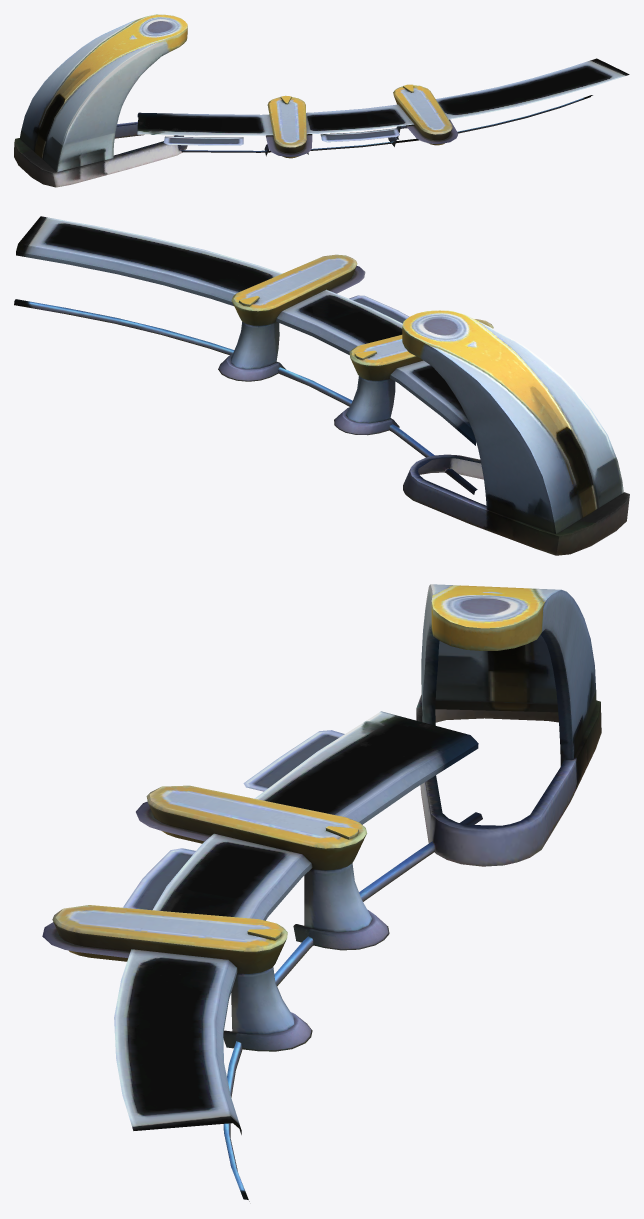
The model's file is pref_sm_4v4beachtech_bk_topblock_R01b_lv1.fbx.
3 views of the same model, one above another, from view 1: azimuth 30°, elevation 25°; view 2: azimuth 150°, elevation 25°; view 3: azimuth 270°, elevation 25° (orthographic). The views are drawn at different scales.
Parts seen in each view (by area): view 1: sm_4v4beachtech_bk_topblock_R01b_lv1; view 2: sm_4v4beachtech_bk_topblock_R01b_lv1; view 3: sm_4v4beachtech_bk_topblock_R01b_lv1.
Part boxes in pixels (left/top/right/bottom): sm_4v4beachtech_bk_topblock_R01b_lv1: left=14, top=14, right=629, bottom=187; sm_4v4beachtech_bk_topblock_R01b_lv1: left=14, top=216, right=629, bottom=555; sm_4v4beachtech_bk_topblock_R01b_lv1: left=42, top=584, right=601, bottom=1201.
Size of the model in its own units: 19.2 by 4.32 by 9.11.
